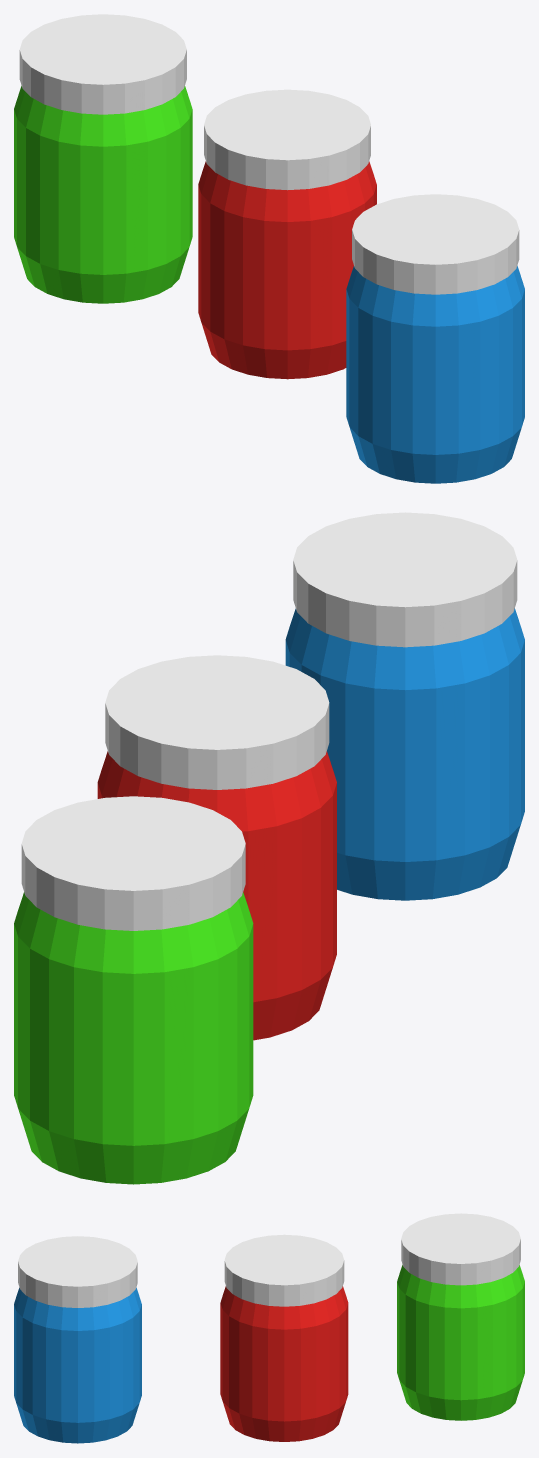
File: wadah2.obj
3 renders of one model, top to bottom at view 1: azimuth 30°, elevation 25°; view 2: azimuth 150°, elevation 25°; view 3: azimuth 270°, elevation 25°, orthographic. The views are drawn at different scales.
Visible parts, largest first — view 1: Jar_Cylinder.014; view 2: Jar_Cylinder.014; view 3: Jar_Cylinder.014.
Part boxes in pixels (x1,y1,x2,y2): Jar_Cylinder.014: (14, 14, 524, 483); Jar_Cylinder.014: (14, 512, 524, 1184); Jar_Cylinder.014: (14, 1213, 524, 1443).
Bounding box in the file's own units: 0.3816 × 0.3669 × 1.07.
